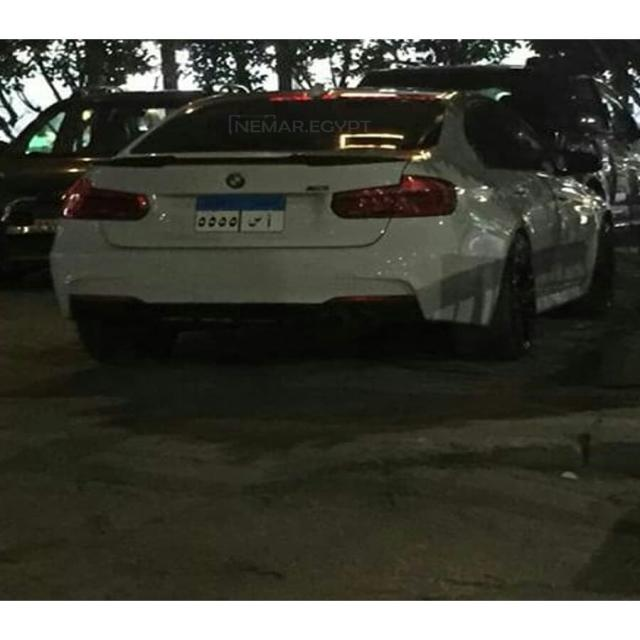License Plate: (190, 191, 288, 235)
